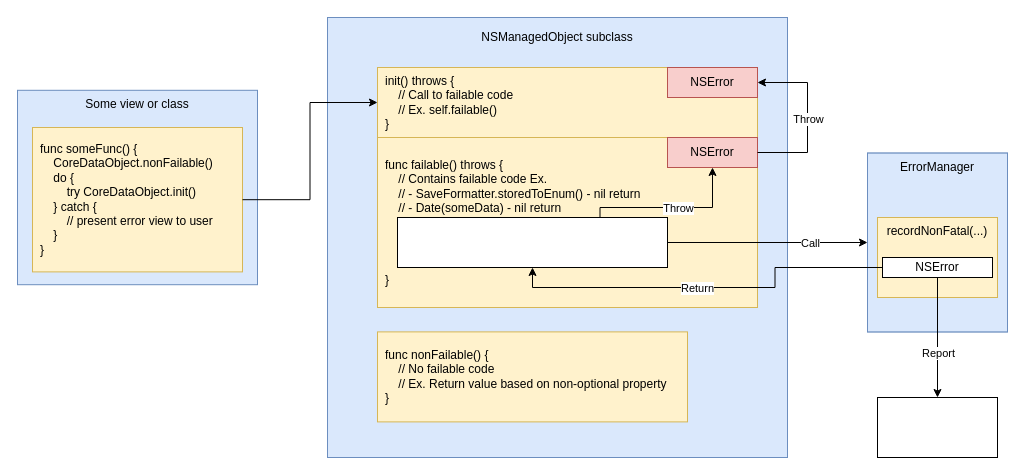
Image size: 1025x475. Some labels were removed from this diagram. Each missing label, with the centre of its shape:
"Crashlytics" goes at pixel 937 427.
"error = ErrorManager.recordNonFatal(parms) throw error" goes at pixel 532 242.
